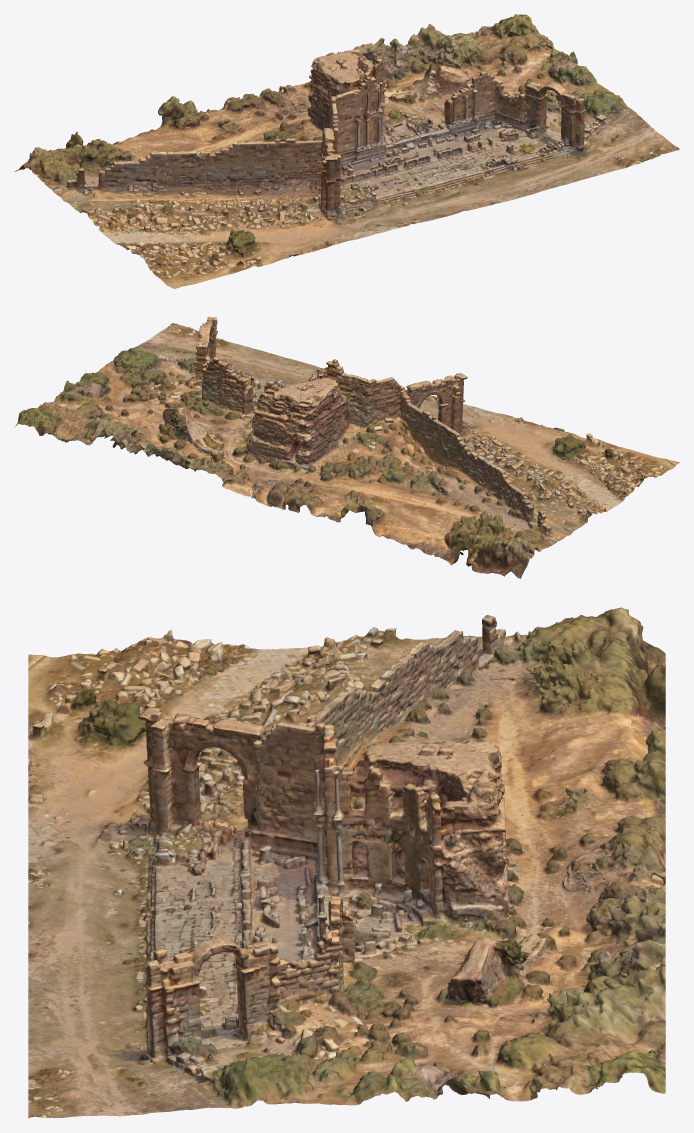
3 renders of one model, top to bottom at view 1: azimuth 30°, elevation 25°; view 2: azimuth 150°, elevation 25°; view 3: azimuth 270°, elevation 25°, orthographic. The views are drawn at different scales.
Parts seen in each view (by area): view 1: LBY_002_10_Nympheum; view 2: LBY_002_10_Nympheum; view 3: LBY_002_10_Nympheum.
Boxes of the visible parts, box(x1,y1,x2,y2) form: LBY_002_10_Nympheum: box(15, 14, 679, 288); LBY_002_10_Nympheum: box(15, 317, 679, 578); LBY_002_10_Nympheum: box(28, 607, 665, 1118).
Bounding box in the file's own units: 112 × 20.12 × 60.93.
1 material, 1 textured.
